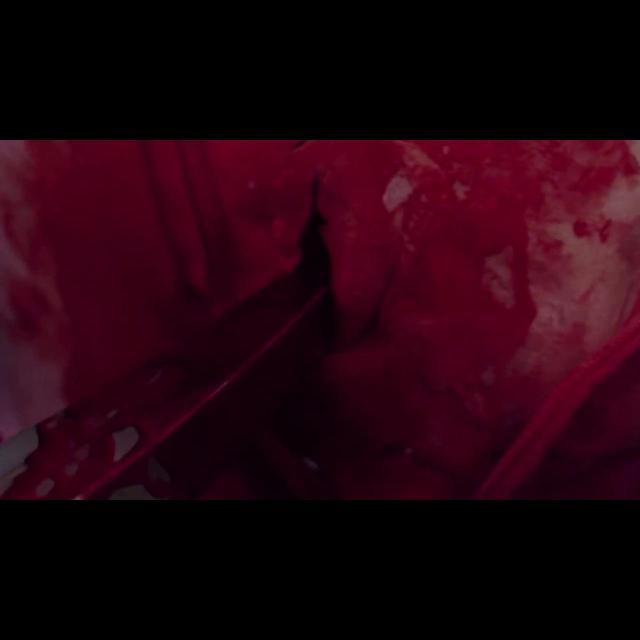blood: (0, 140, 640, 500)
